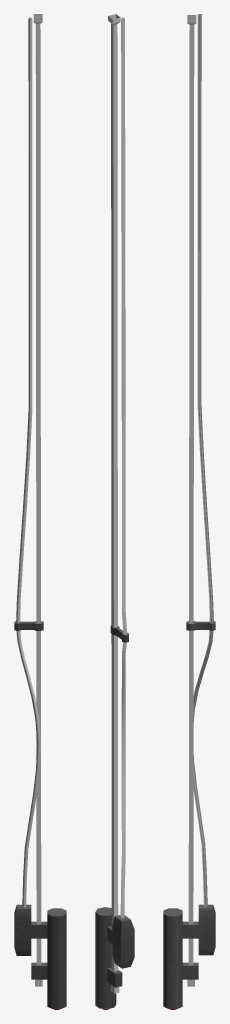
File: GymDetector.fbx
The picture shows the model from 3 angles, left to right: view 1: azimuth 90°, elevation 25°; view 2: azimuth 210°, elevation 25°; view 3: azimuth 270°, elevation 25°; orthographic projection.
Visible parts, largest first — view 1: GymDetector001; view 2: GymDetector001; view 3: GymDetector001.
Part boxes in pixels (bbox=[...]): GymDetector001: bbox=[14, 14, 66, 1009]; GymDetector001: bbox=[95, 14, 134, 1009]; GymDetector001: bbox=[163, 14, 215, 1009].
Size of the model in its own units: 11.6 by 607 by 29.02.
